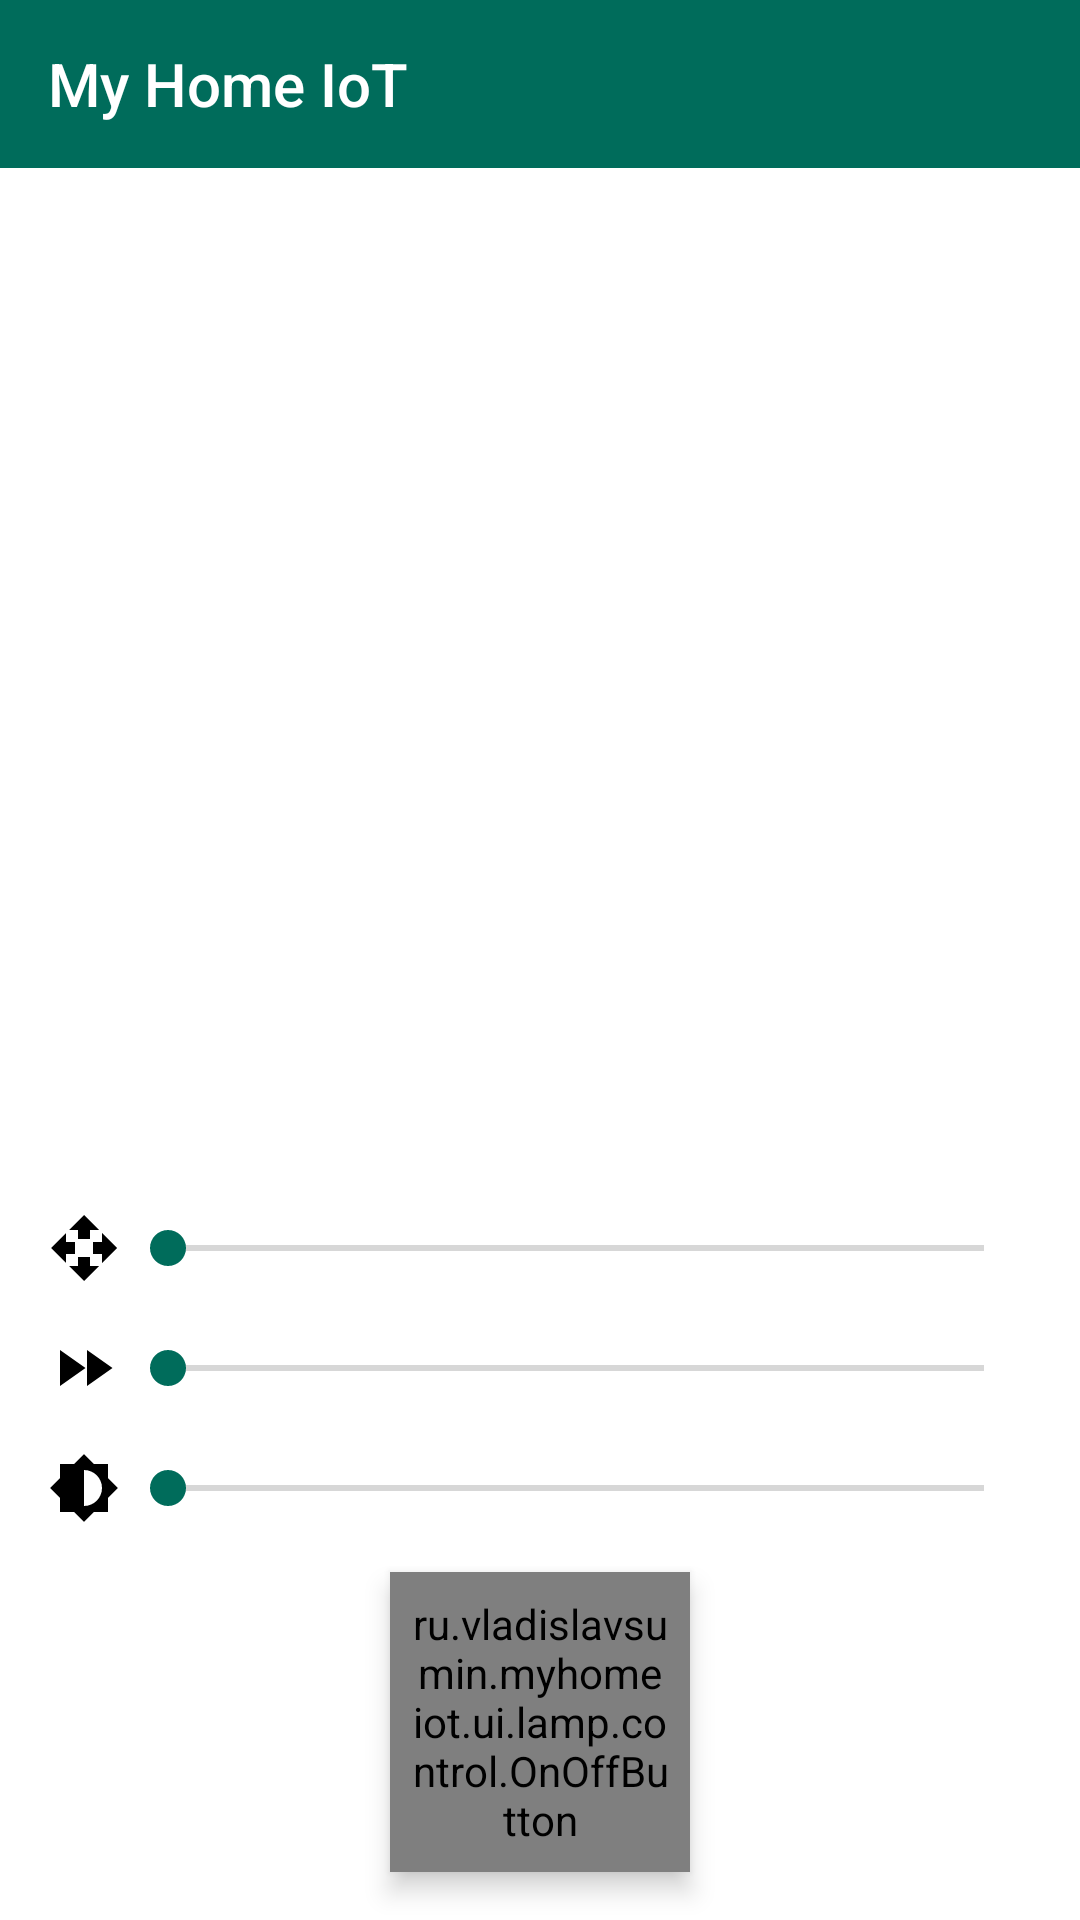

Named icons in this screenshot (1080px×1920px) and their centers, point (x, y):
brightness: point (84, 1488)
fast forward: point (86, 1368)
